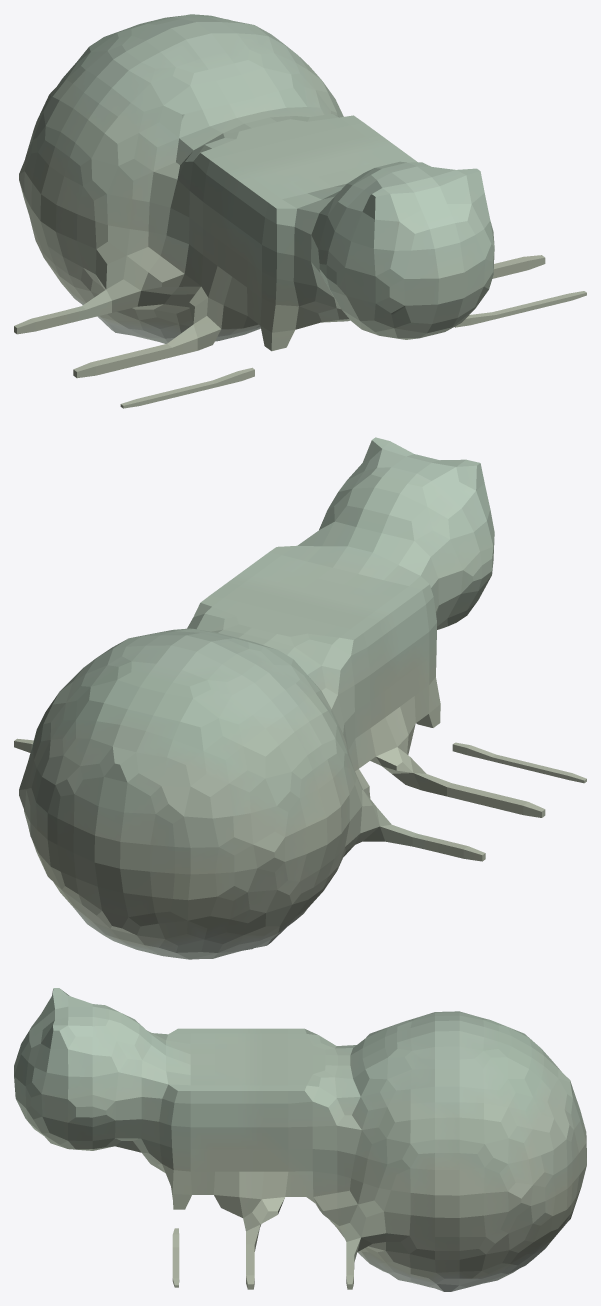
File: scorpion.glb
3 renders of one model, top to bottom at view 1: azimuth 30°, elevation 25°; view 2: azimuth 150°, elevation 25°; view 3: azimuth 270°, elevation 25°, orthographic. The views are drawn at different scales.
Parts seen in each view (by area): view 1: geometry_0; view 2: geometry_0; view 3: geometry_0.
Boxes of the visible parts, left/top/right/bottom form: geometry_0: left=14, top=14, right=586, bottom=408; geometry_0: left=14, top=437, right=586, bottom=959; geometry_0: left=14, top=988, right=586, bottom=1291.
Size of the model in its own units: 1.3 by 0.8487 by 1.66.
Materials: 1 (1 with a texture image).
